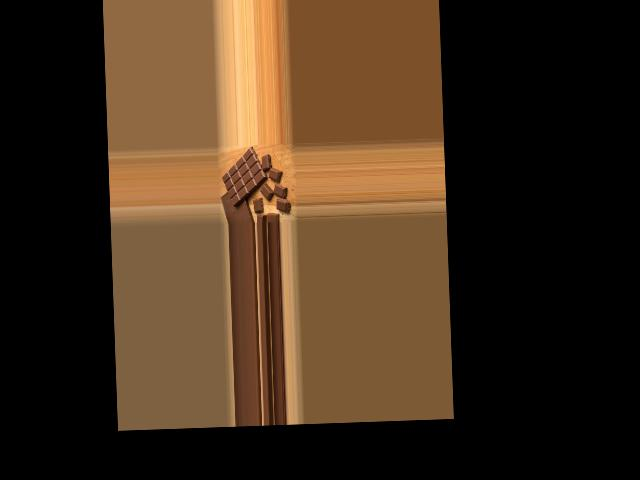chocolate: (220, 148, 270, 207)
